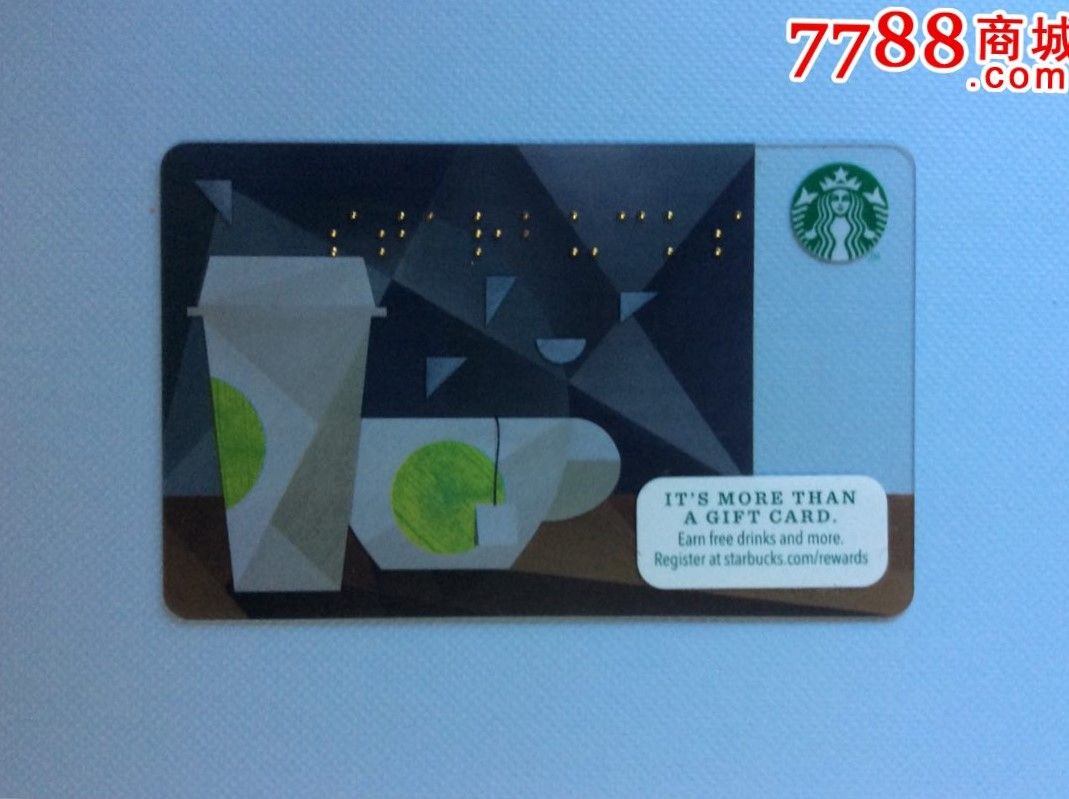Braille: (519, 207, 552, 261), (473, 207, 505, 260), (714, 207, 746, 260), (426, 208, 458, 258), (569, 208, 599, 260), (617, 208, 647, 260), (377, 208, 408, 258), (329, 207, 358, 258), (665, 207, 694, 257)
